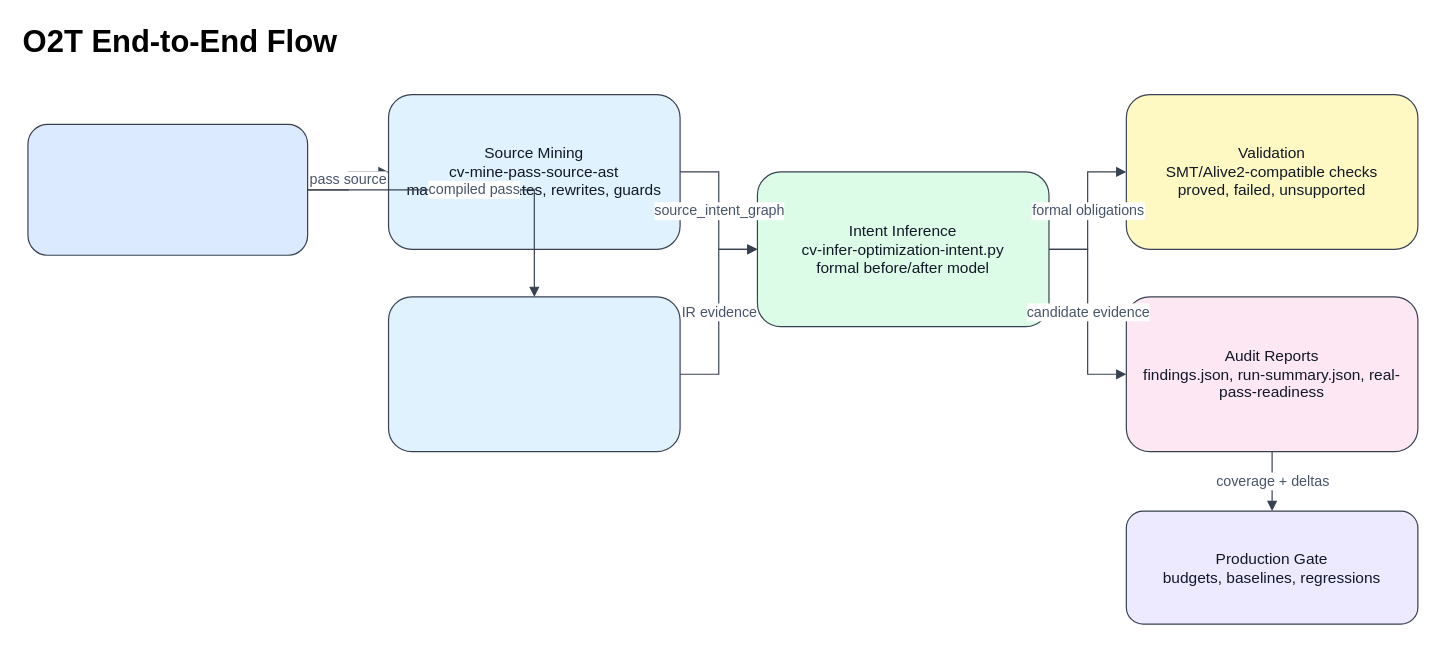
This 1439x645 diagram has some shape labels left out. The shapes that lost their labels are listed below. From the top down, each one's centre as x and y in pixels, then its label:
the point at 167,189: Inputs LLVM pass source, compile_commands.json, constraints, seeds
the point at 533,374: Implementation IR Mining cv-mine-pass-impl-ir CFG, DFG, calls, operands
